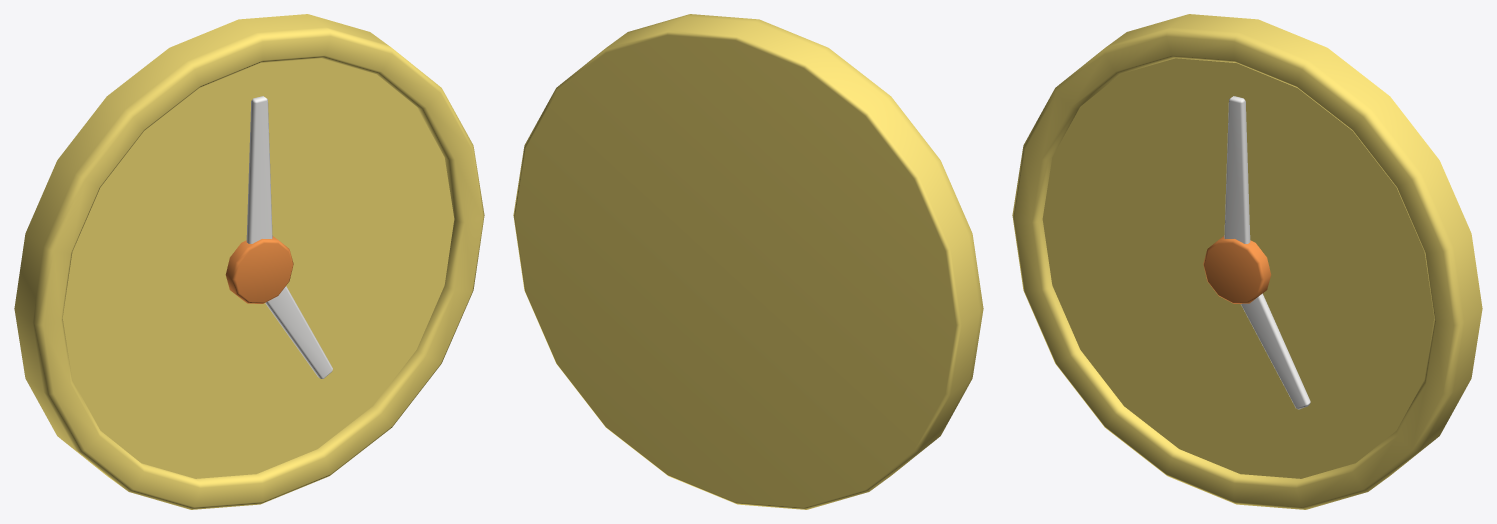
File: Clock_1.glb
3 renders of one model, left to right at view 1: azimuth 30°, elevation 25°; view 2: azimuth 150°, elevation 25°; view 3: azimuth 330°, elevation 25°, orthographic.
Visible parts, largest first — view 1: Clock_1; view 2: Clock_1; view 3: Clock_1.
Boxes of the visible parts, x1,y1,x2,y2 form: Clock_1: (14,14,484,509); Clock_1: (513,14,983,509); Clock_1: (1012,14,1482,509).
Bounding box in the file's own units: 0.5832 × 0.5832 × 0.0624.
1 material, 1 textured.
